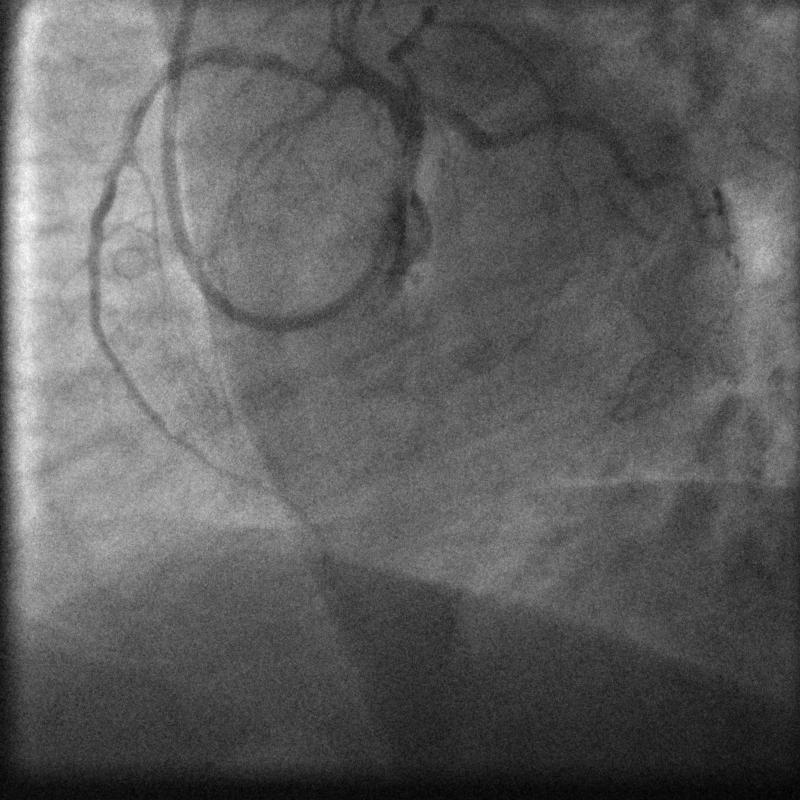Stenosis: (279, 54, 336, 100)
